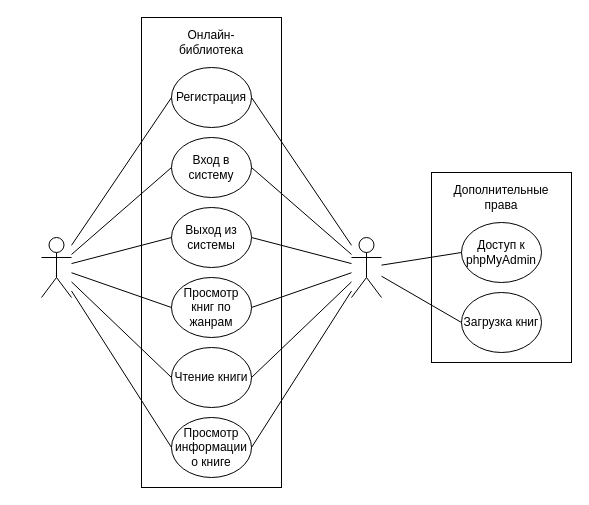
Some shapes in this 589 by 505 pixel diagram are drawn without their labels. Here are the shapes that lost their labels. From the top down, the centre of each, then its label:
(56,267): Пользователь
(366,267): Администратор
